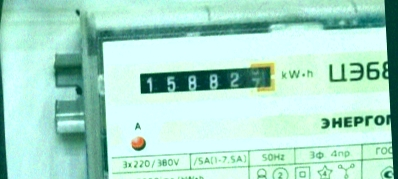1: (145, 75, 154, 91)
2: (228, 69, 239, 87)
5: (166, 74, 176, 90)
7: (251, 75, 260, 87)
8: (207, 71, 218, 89), (187, 73, 197, 90)
screen: (132, 56, 282, 103)
